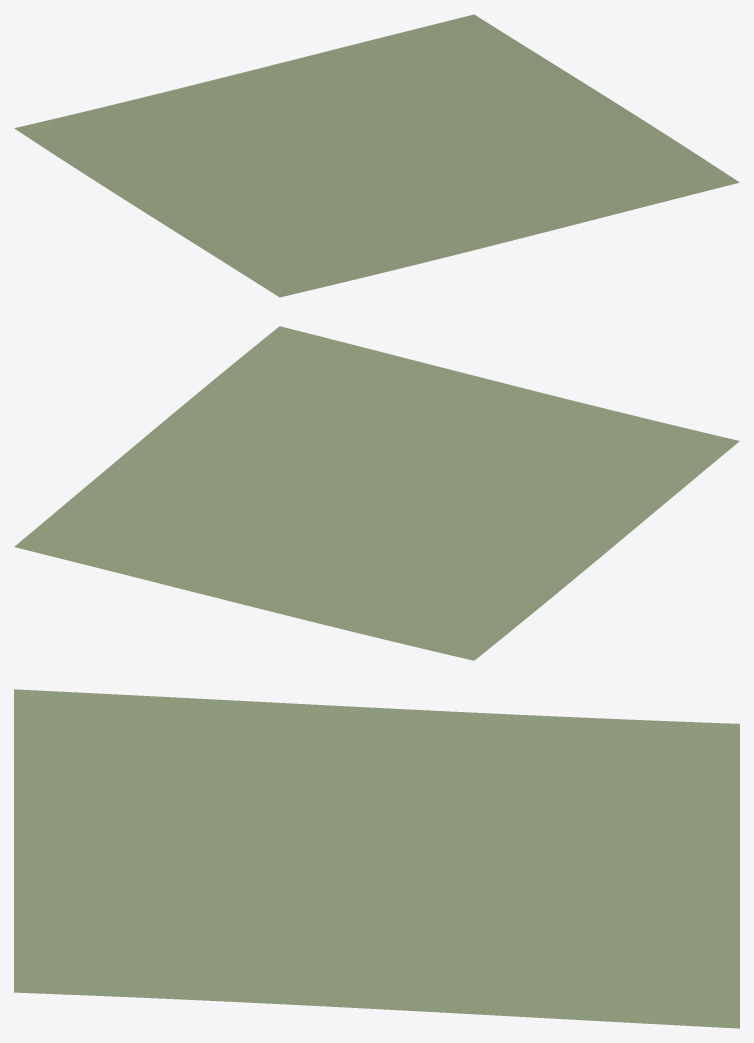
File: expanse-3-9.glb
3 views of the same model, one above another, from view 1: azimuth 30°, elevation 25°; view 2: azimuth 150°, elevation 25°; view 3: azimuth 270°, elevation 25° (orthographic). The views are drawn at different scales.
Parts seen in each view (by area): view 1: expanse-3-9; view 2: expanse-3-9; view 3: expanse-3-9.
Part boxes in pixels (x1,y1,x2,y2): expanse-3-9: [14, 14, 739, 297]; expanse-3-9: [14, 326, 739, 660]; expanse-3-9: [14, 689, 739, 1028].
Bounding box in the file's own units: 256 × 15.17 × 256.
